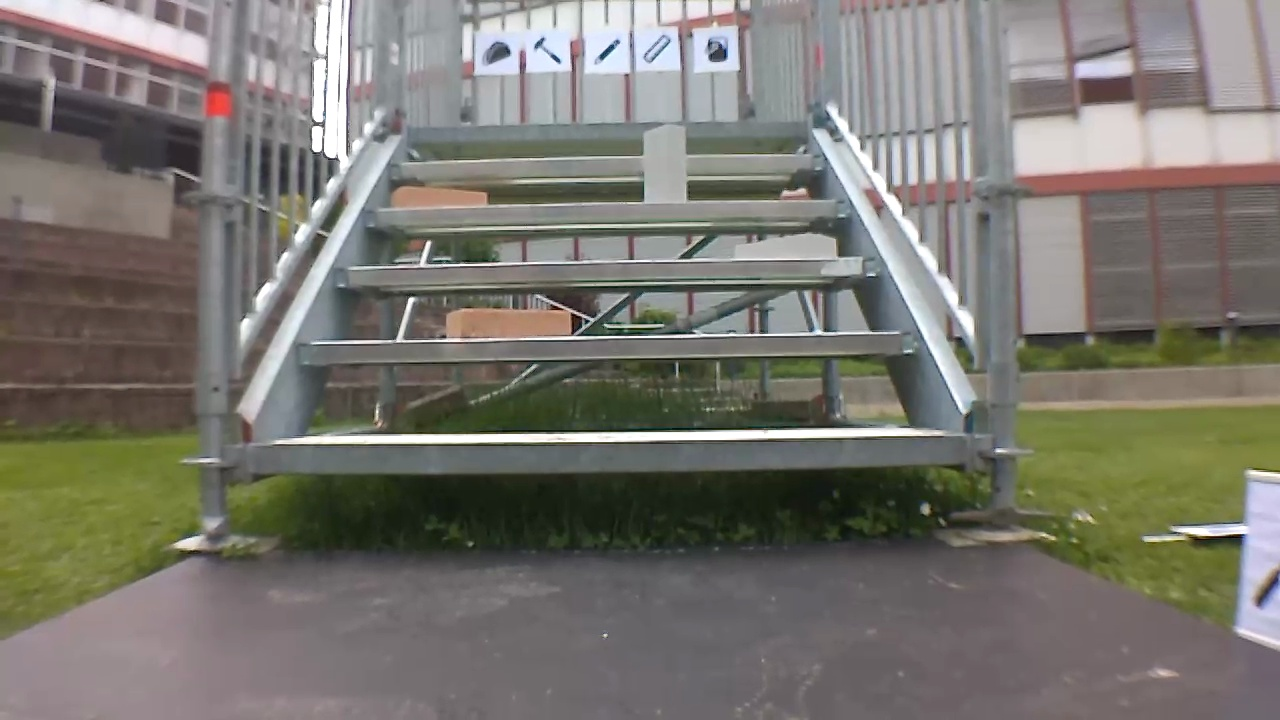brick: (446, 309, 568, 337), (644, 126, 686, 204), (737, 234, 834, 258), (393, 187, 485, 206)
bucket: (700, 32, 731, 66)
edge: (250, 434, 968, 474), (297, 332, 916, 363), (336, 257, 885, 283), (363, 199, 852, 223), (390, 156, 826, 177), (407, 121, 805, 141)
hammer: (527, 33, 567, 68)
pencil: (589, 30, 624, 71)
ruler: (639, 29, 676, 66)
stairs: (178, 4, 1038, 546)
steps: (244, 116, 975, 479)
taco: (477, 35, 514, 70)
